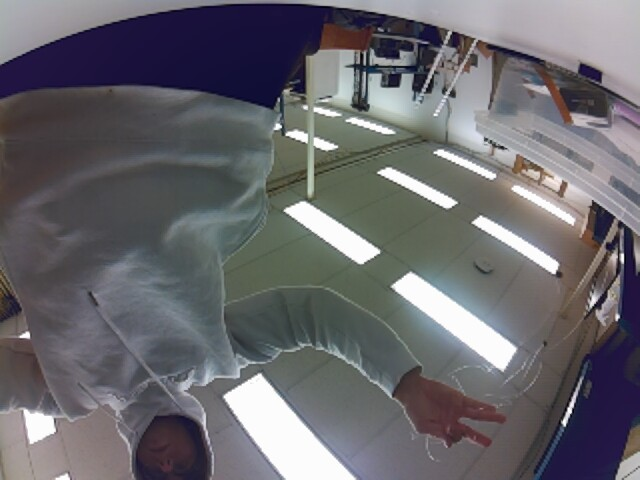mosquito: (604, 241, 614, 253), (554, 270, 563, 280), (542, 338, 548, 348)
